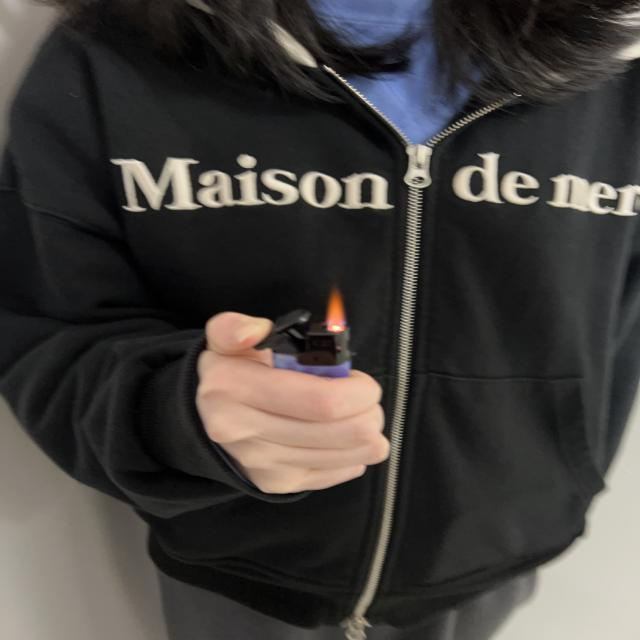fire: (324, 284, 348, 334)
